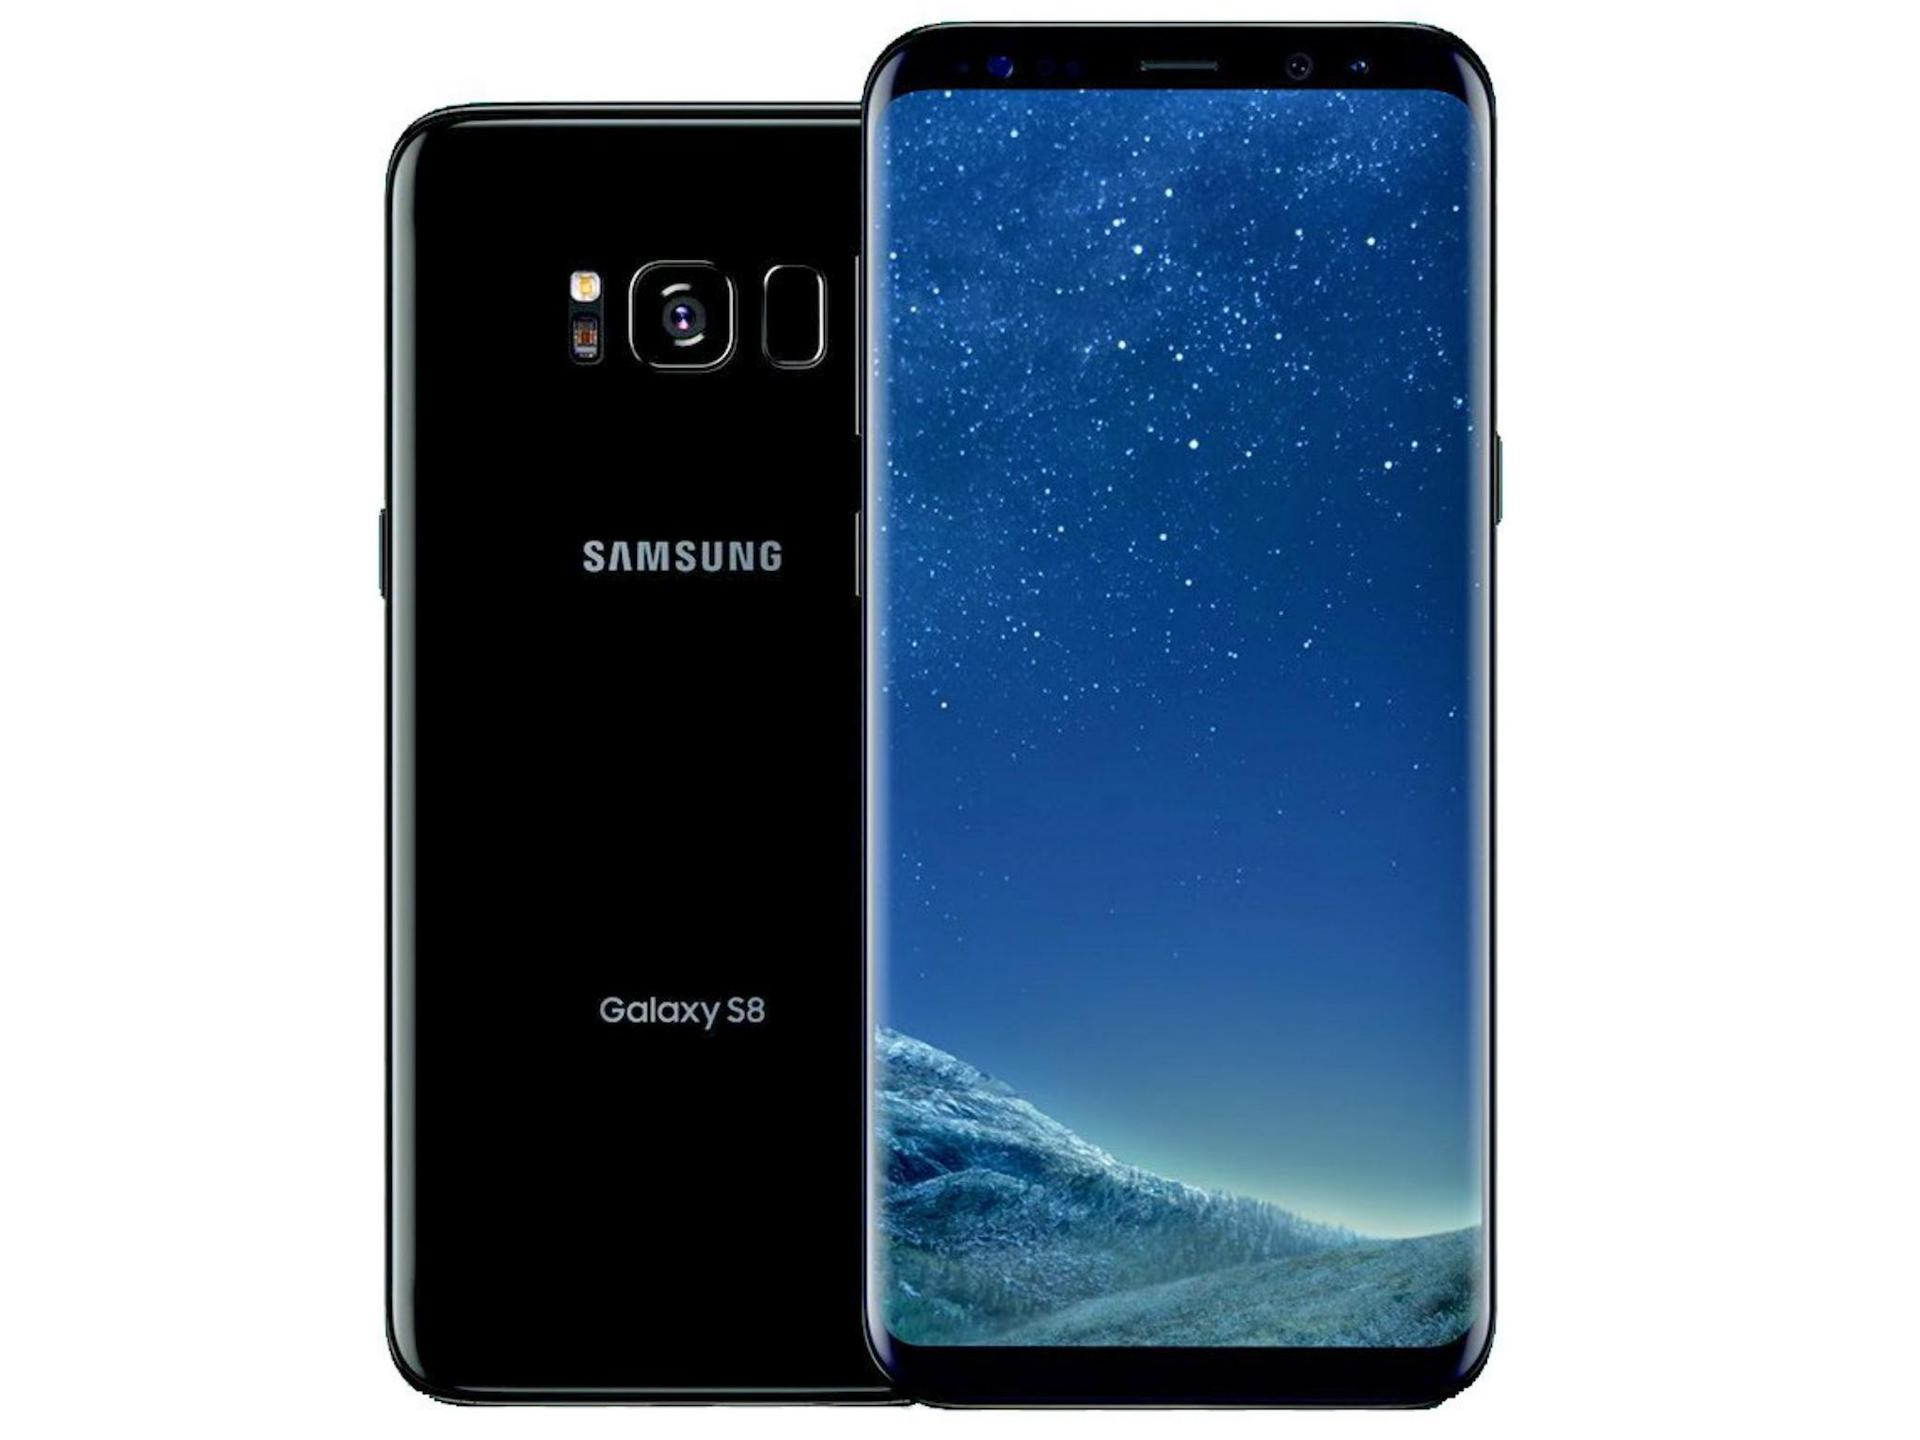smartphone: (850, 17, 1507, 1416), (376, 98, 919, 1411)
